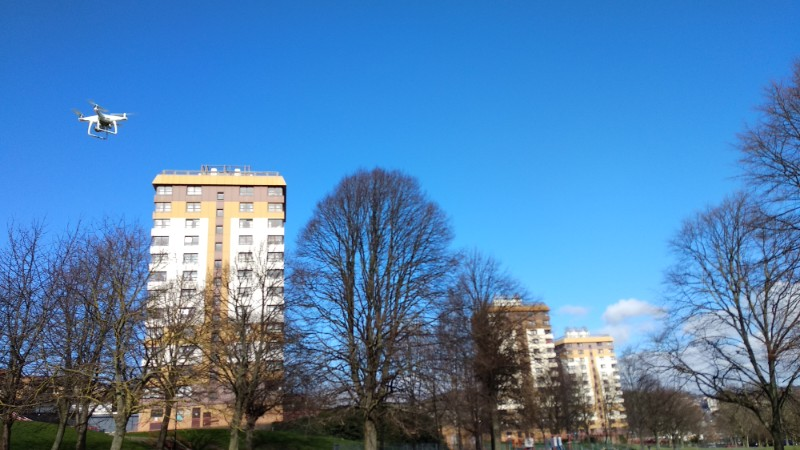drone: (69, 98, 136, 141)
